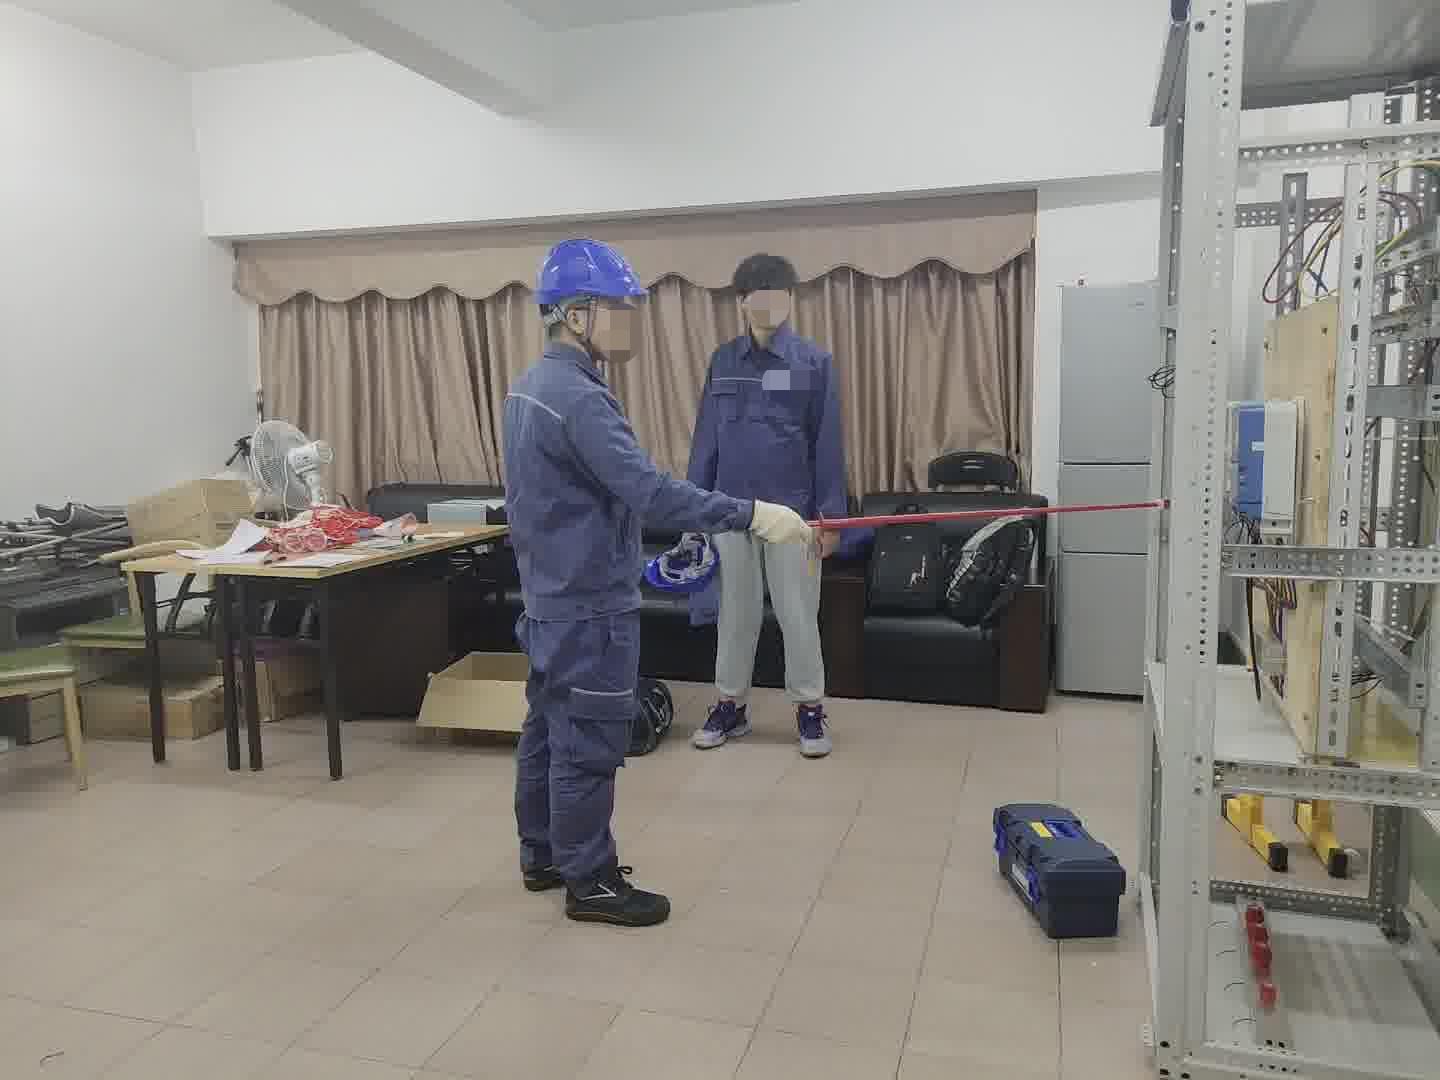halt: (534, 242, 651, 358)
inear: (553, 298, 607, 351)
unhalt: (731, 253, 805, 339)
